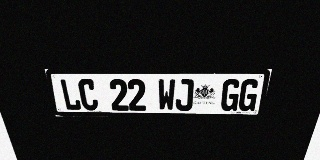2: (109, 79, 129, 111), (127, 79, 146, 111)
C: (77, 79, 99, 110)
G: (237, 79, 260, 111), (220, 79, 242, 111)
J: (175, 79, 194, 111)
L: (59, 79, 82, 110)
W: (158, 79, 176, 111)
